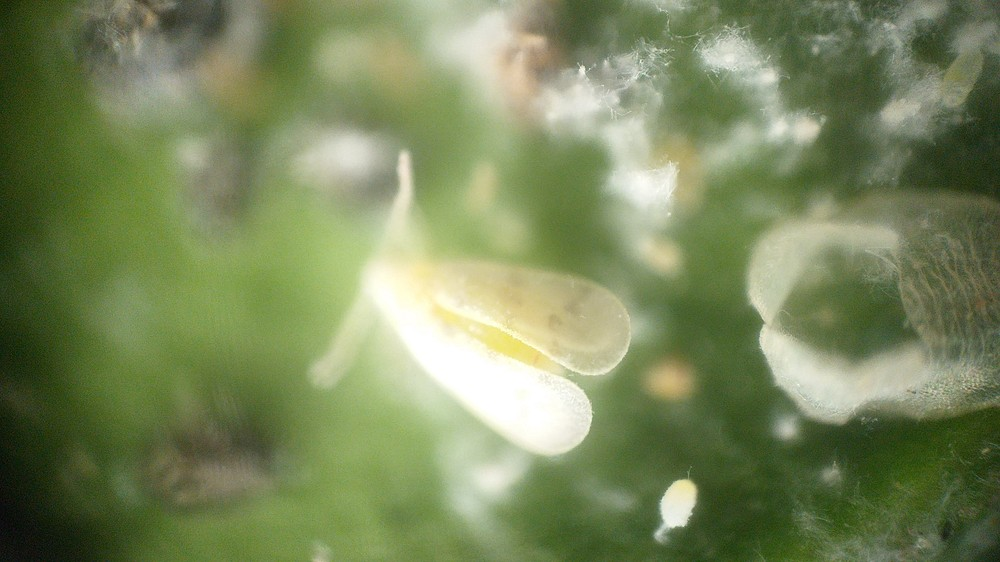Mosca Blanca: (306, 149, 638, 475)
